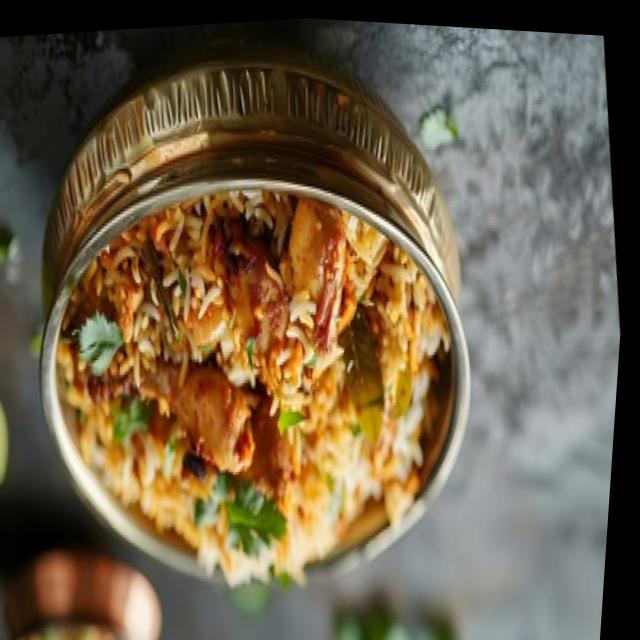BIRIYANI: (60, 196, 449, 582)
